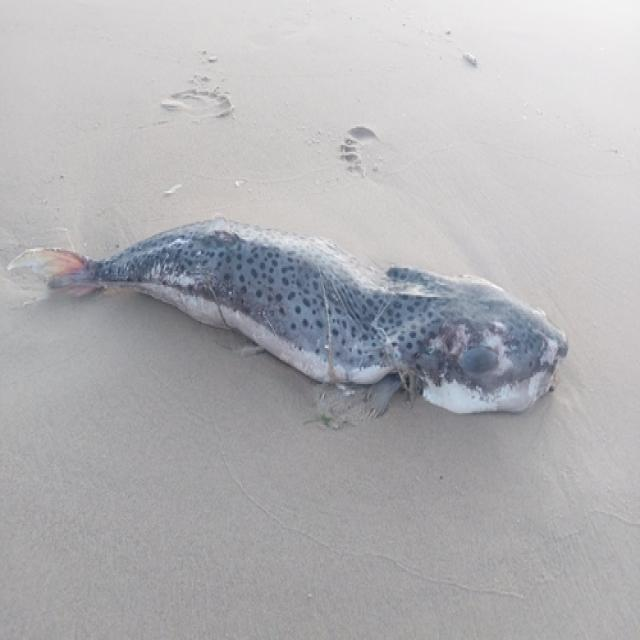Balik: (9, 217, 568, 414)
